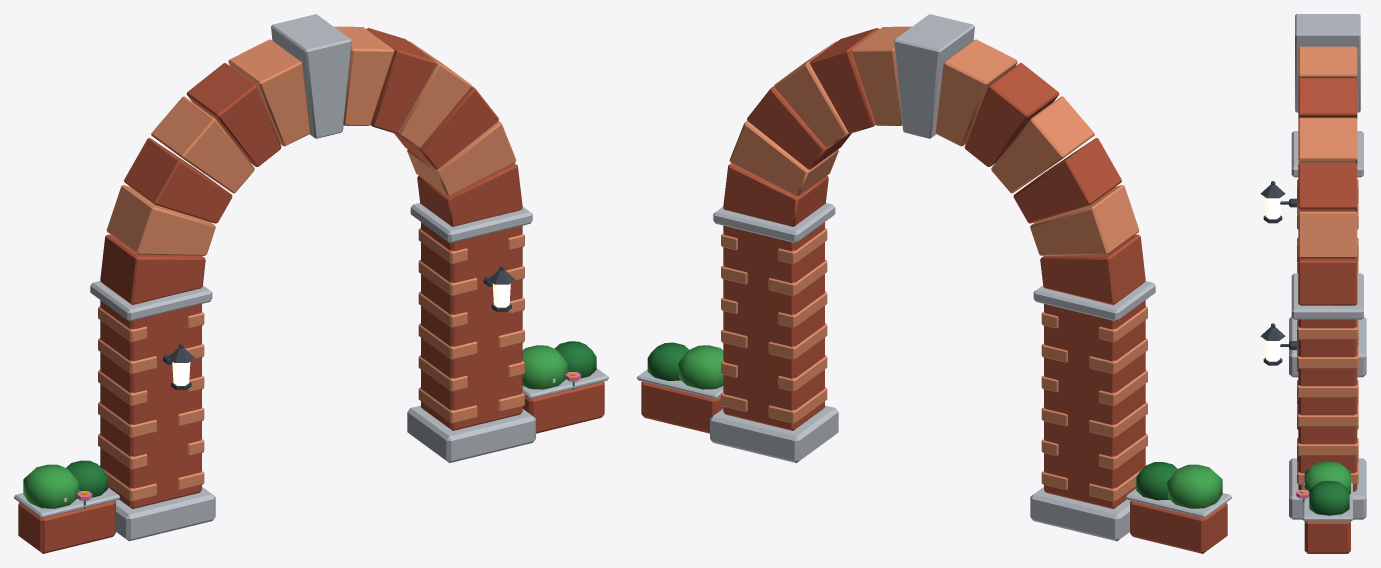
File: arco_praca_tijolo.glb
3 renders of one model, left to right at view 1: azimuth 30°, elevation 25°; view 2: azimuth 150°, elevation 25°; view 3: azimuth 270°, elevation 25°, orthographic. The views are drawn at different scales.
Visible parts, largest first — view 1: arco_praca_tijolo; view 2: arco_praca_tijolo; view 3: arco_praca_tijolo.
Part boxes in pixels (<box>): arco_praca_tijolo: <box>14,14,608,553</box>; arco_praca_tijolo: <box>637,14,1231,553</box>; arco_praca_tijolo: <box>1260,14,1366,553</box>.
Size of the model in its own units: 7.1 by 5.32 by 1.26.
Materials: 2 (1 with a texture image).
